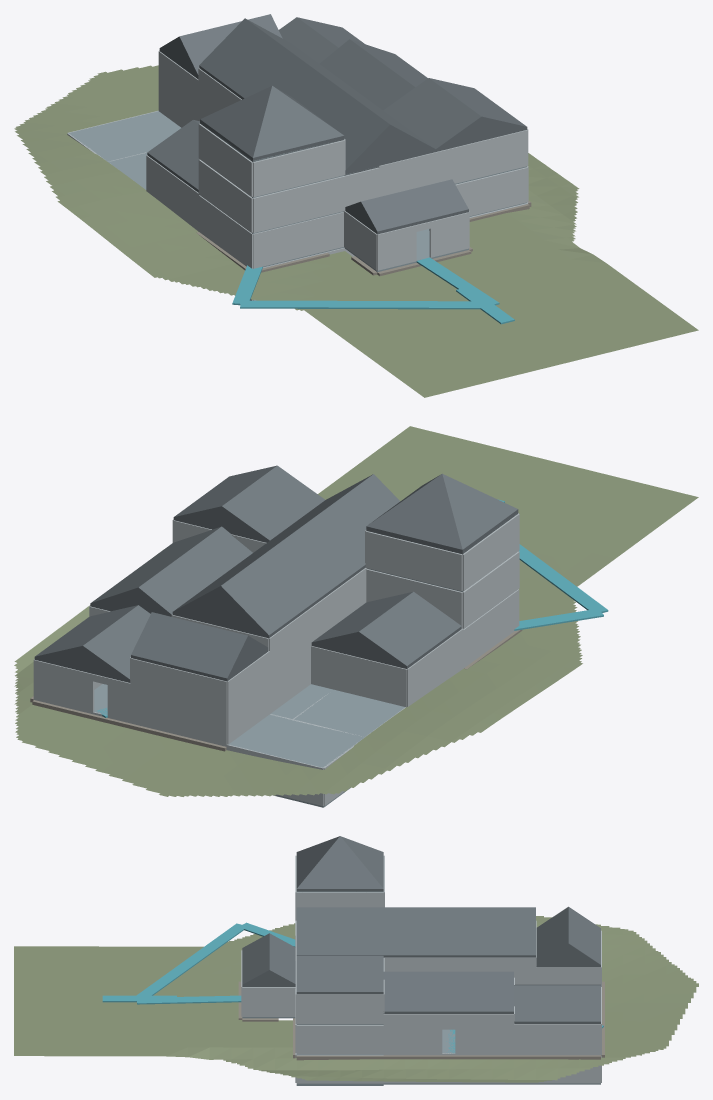
Rendered from authored-bays.glb.
The picture shows the model from 3 angles, top to bottom: view 1: azimuth 30°, elevation 25°; view 2: azimuth 150°, elevation 25°; view 3: azimuth 270°, elevation 25°; orthographic projection. The views are drawn at different scales.
Visible parts, largest first — view 1: Saved editor macroterrain CHURCH, nave-and-choir roof west, music-and-crypt-entry roof west, vestibule roof south, belfry hip face 2, CHURCH bay wall ('z', 34, 10, 18, 3, 6) end region0, CHURCH bay wall ('z', 34, 10, 18, 6, 9) end region0, side-chapel roof west, belfry hip face 3, Ceiling cap vault-north, CHURCH bay wall ('z', 34, 26, 34, 0, 3) end region0, Wall chancel W (+32 smaller); view 2: Saved editor macroterrain CHURCH, nave-and-choir roof west, Wall chancel N, chancel roof north, side-chapel roof west, confessional-and-consultation roof west, Wall nave W, music-and-crypt-entry roof west, belfry hip face 0, CHURCH bay wall ('z', 26, 10, 18, 6, 9) end region0, Wall chancel W, belfry hip face 3 (+33 smaller); view 3: Saved editor macroterrain CHURCH, nave-and-choir roof east, side-chapel roof east, vestry roof east, music-and-crypt-entry roof east, CHURCH bay wall ('x', 34, 26, 34, 0, 3) end region0, belfry hip face 1, Wall chapel E.001, Wall chapel E, Wall vestibule E, Wall nave E, CHURCH bay wall ('x', 18, 26, 34, 6, 9) end region0 (+21 smaller).
Boxes of the visible parts, box(x1,y1,x2,y2) form: Saved editor macroterrain CHURCH: box(14, 65, 698, 397); nave-and-choir roof west: box(199, 18, 389, 172); music-and-crypt-entry roof west: box(383, 78, 481, 150); vestibule roof south: box(361, 179, 468, 233); belfry hip face 2: box(253, 86, 344, 160); CHURCH bay wall ('z', 34, 10, 18, 3, 6) end region0: box(253, 176, 345, 232); CHURCH bay wall ('z', 34, 10, 18, 6, 9) end region0: box(253, 140, 345, 196); side-chapel roof west: box(319, 39, 415, 110); belfry hip face 3: box(200, 86, 271, 160); Ceiling cap vault-north: box(68, 111, 180, 152); CHURCH bay wall ('z', 34, 26, 34, 0, 3) end region0: box(455, 167, 527, 216); Wall chancel W: box(158, 51, 198, 127); Saved editor macroterrain CHURCH: box(14, 426, 698, 796); nave-and-choir roof west: box(221, 474, 400, 637); Wall chancel N: box(130, 658, 227, 744); chancel roof north: box(131, 612, 248, 680); side-chapel roof west: box(138, 526, 252, 616); confessional-and-consultation roof west: box(359, 591, 461, 668); Wall nave W: box(269, 590, 335, 713); music-and-crypt-entry roof west: box(222, 465, 324, 541); belfry hip face 0: box(366, 474, 462, 551); CHURCH bay wall ('z', 26, 10, 18, 6, 9) end region0: box(365, 531, 462, 591); Wall chancel W: box(227, 651, 269, 744); belfry hip face 3: box(442, 474, 518, 550); Saved editor macroterrain CHURCH: box(14, 916, 698, 1082); nave-and-choir roof east: box(296, 907, 535, 957); side-chapel roof east: box(383, 971, 513, 1013); vestry roof east: box(514, 985, 600, 1023); music-and-crypt-entry roof east: box(296, 956, 383, 993); CHURCH bay wall ('x', 34, 26, 34, 0, 3) end region0: box(296, 1025, 383, 1053); belfry hip face 1: box(296, 836, 383, 890); Wall chapel E.001: box(383, 1014, 442, 1053); Wall chapel E: box(455, 1014, 513, 1053); Wall vestibule E: box(242, 987, 295, 1016); Wall nave E: box(455, 957, 535, 984); CHURCH bay wall ('x', 18, 26, 34, 6, 9) end region0: box(296, 892, 383, 907).
Bounding box in the file's own units: 36 × 16.16 × 63.
